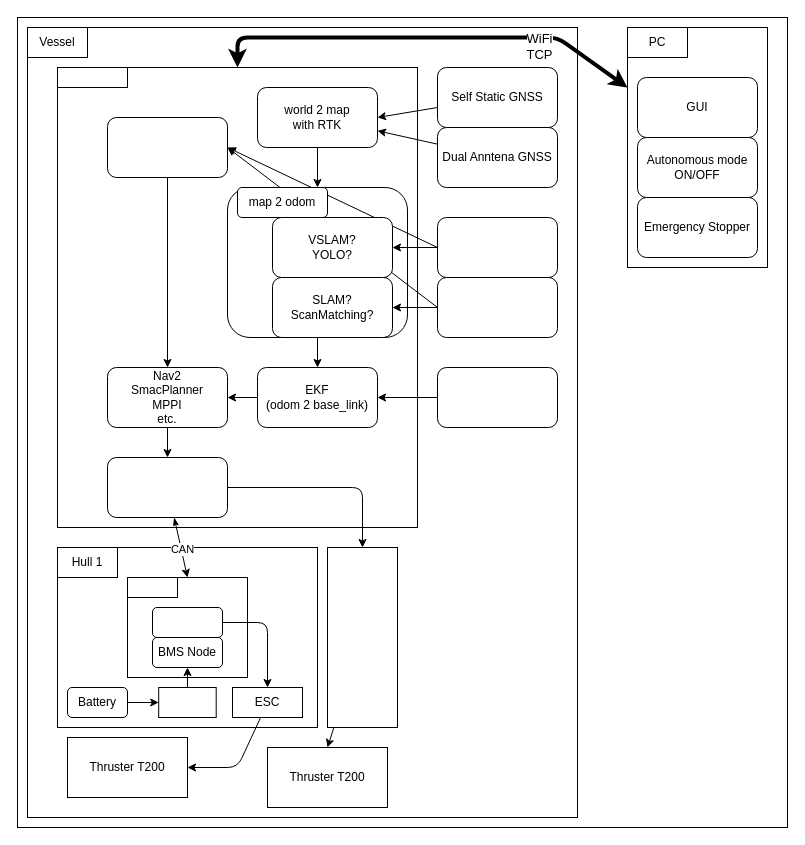
Image size: 805x845. Some labels were removed from this diagram. The shapes that lost their labels are listed below. From the top down, each one's box as (x1, y1, x2, y2) in pixels, then its label:
(56, 66, 128, 88): mini PC
(106, 116, 228, 178): Obstacle Detector
(436, 216, 558, 278): Camera
(436, 276, 558, 338): LiDAR
(436, 366, 558, 428): 9axis IMU
(106, 456, 228, 518): Thruster Controller w/ CANable
(126, 576, 178, 598): ESP32
(152, 606, 222, 638): Thruster Ctrl
(326, 546, 398, 728): Hull2 Same to Hulll 1
(158, 686, 216, 718): BMS
